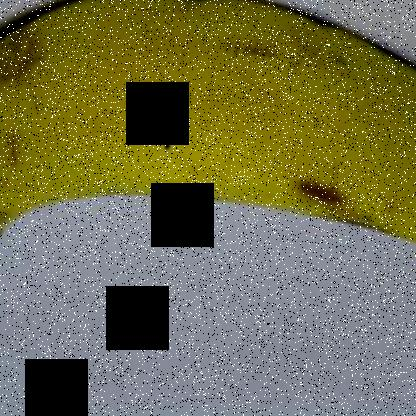freshripe: (1, 1, 415, 265)
